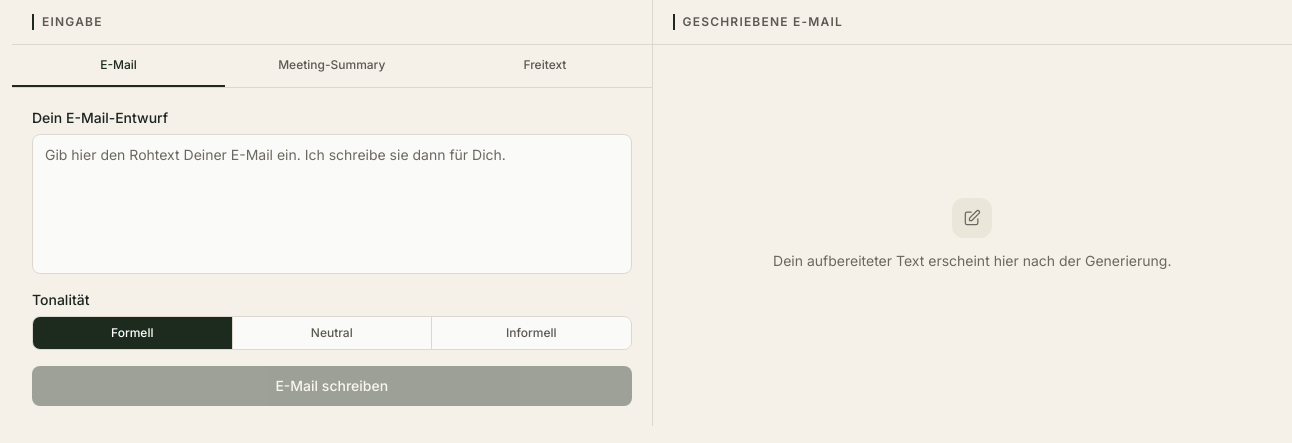
Test case: TextPolisherPage — UseCase-Wechsel › wechselt zu meeting ohne Dialog wenn kein Output
The width and height of the screenshot is (1292, 443).
Step 1. Click the tab "Meeting-Summary" → (332, 66), box [225, 45, 438, 87]
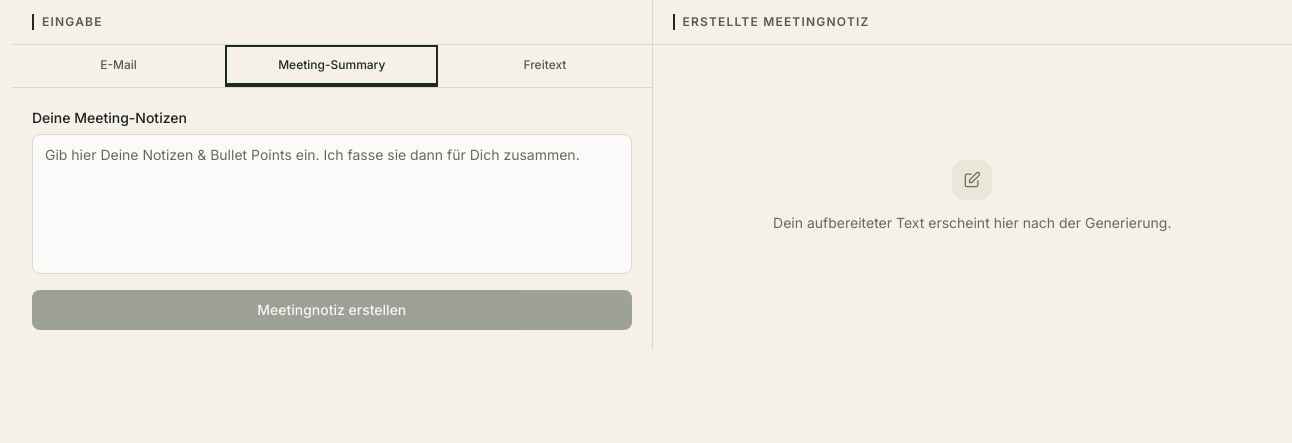
Result: the button "Meetingnotiz erstellen" is shown at [32, 290, 632, 330]
